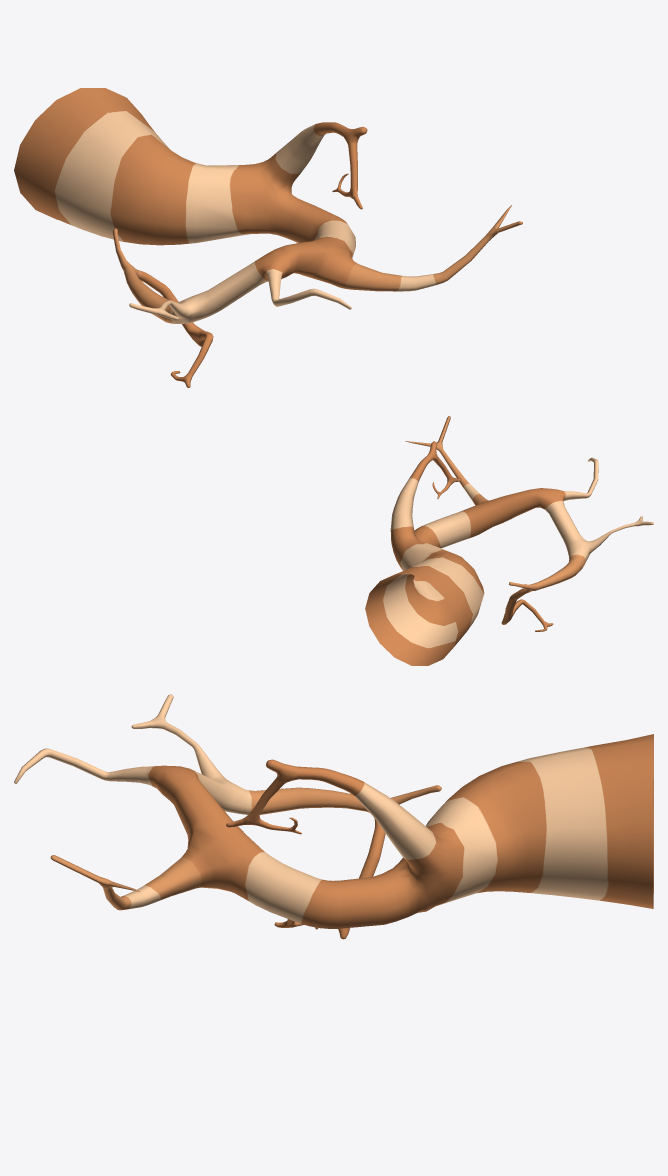
Rendered from bigger-tree.glb.
3 renders of one model, top to bottom at view 1: azimuth 30°, elevation 25°; view 2: azimuth 150°, elevation 25°; view 3: azimuth 270°, elevation 25°, orthographic. The views are drawn at different scales.
Parts seen in each view (by area): view 1: tree_02 04; view 2: tree_02 04; view 3: tree_02 04.
Part boxes in pixels (x1,y1,x2,y2): tree_02 04: (14, 88, 522, 387); tree_02 04: (365, 416, 653, 665); tree_02 04: (14, 694, 653, 939).
Bounding box in the file's own units: 88173 × 25742 × 55524.
Materials: 2 (2 with a texture image).
